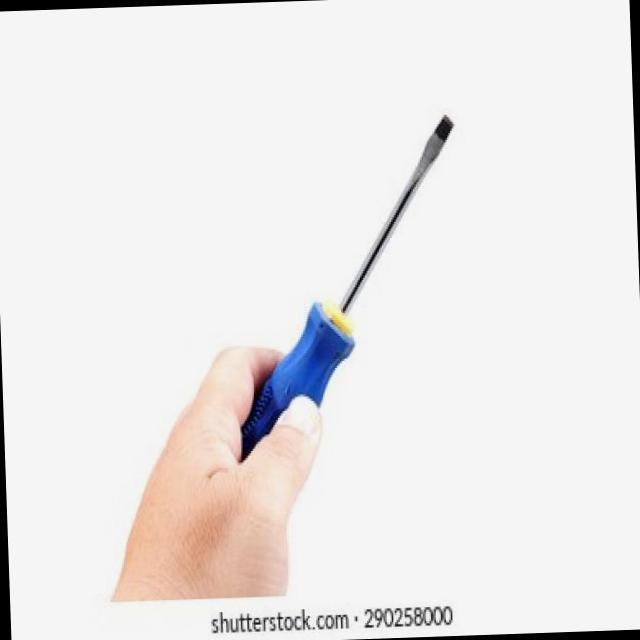screwdriver: (340, 115, 452, 312), (244, 303, 353, 456)
